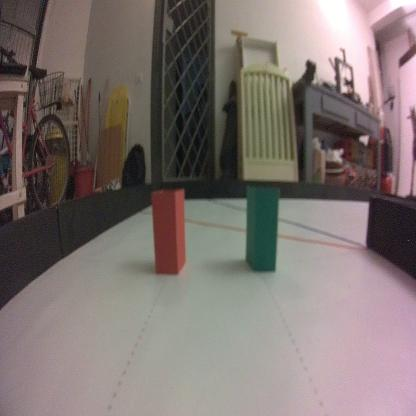green: (246, 183, 278, 275)
red: (150, 184, 186, 278)
